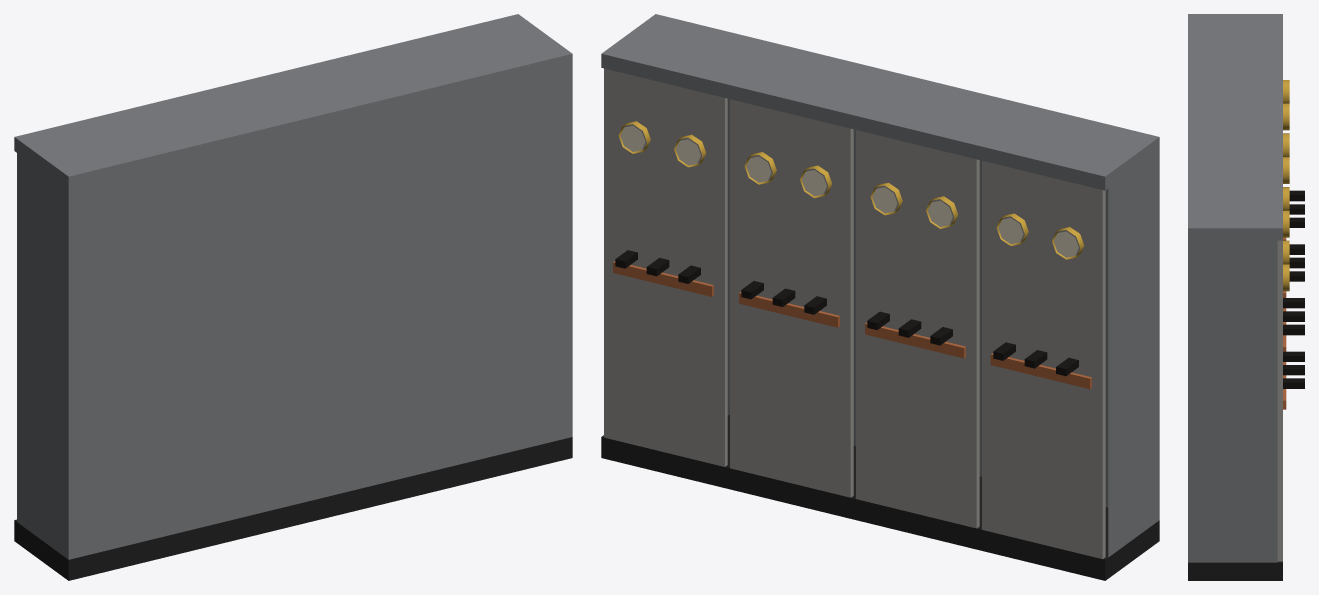
The model's file is parametric-switchboard-1st-pub.glb.
3 renders of one model, left to right at view 1: azimuth 30°, elevation 25°; view 2: azimuth 150°, elevation 25°; view 3: azimuth 270°, elevation 25°, orthographic. The views are drawn at different scales.
Visible parts, largest first — view 1: parametric-switchboard-1st-pub; view 2: parametric-switchboard-1st-pub; view 3: parametric-switchboard-1st-pub.
Part boxes in pixels (x1=…): parametric-switchboard-1st-pub: x1=14, y1=14, x2=572, y2=580; parametric-switchboard-1st-pub: x1=601, y1=14, x2=1159, y2=580; parametric-switchboard-1st-pub: x1=1188, y1=14, x2=1304, y2=580.
Bounding box in the file's own units: 3 × 2.3 × 0.69.
